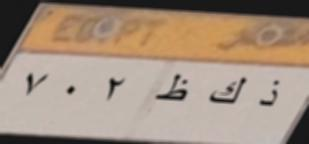0: (58, 77, 86, 106)
2: (95, 70, 135, 107)
7: (15, 69, 51, 101)
Thaa: (155, 70, 193, 107)
kaaf: (204, 70, 251, 108)
zaal: (258, 75, 285, 114)
